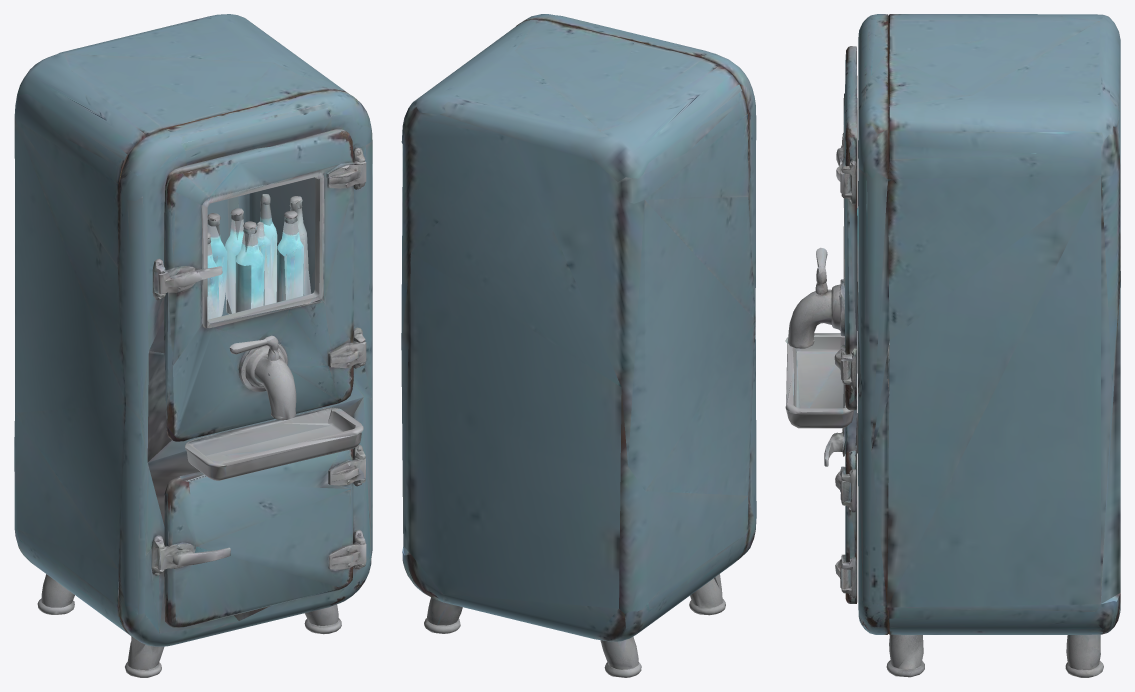
Rendered from secondwind.glb.
The picture shows the model from 3 angles, left to right: view 1: azimuth 30°, elevation 25°; view 2: azimuth 150°, elevation 25°; view 3: azimuth 270°, elevation 25°; orthographic projection. The views are drawn at different scales.
Parts seen in each view (by area): view 1: body, glow; view 2: body; view 3: body.
Part boxes in pixels (x1,y1,x2,y2): body: (14,14,372,677); glow: (198,219,312,349); body: (401,14,756,677); body: (785,14,1120,677).
Size of the model in its own units: 0.9451 by 2 by 1.07.
Materials: 2 (2 with a texture image).
